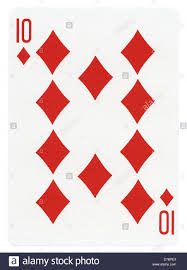ten of diamonds: (9, 8, 180, 245)
